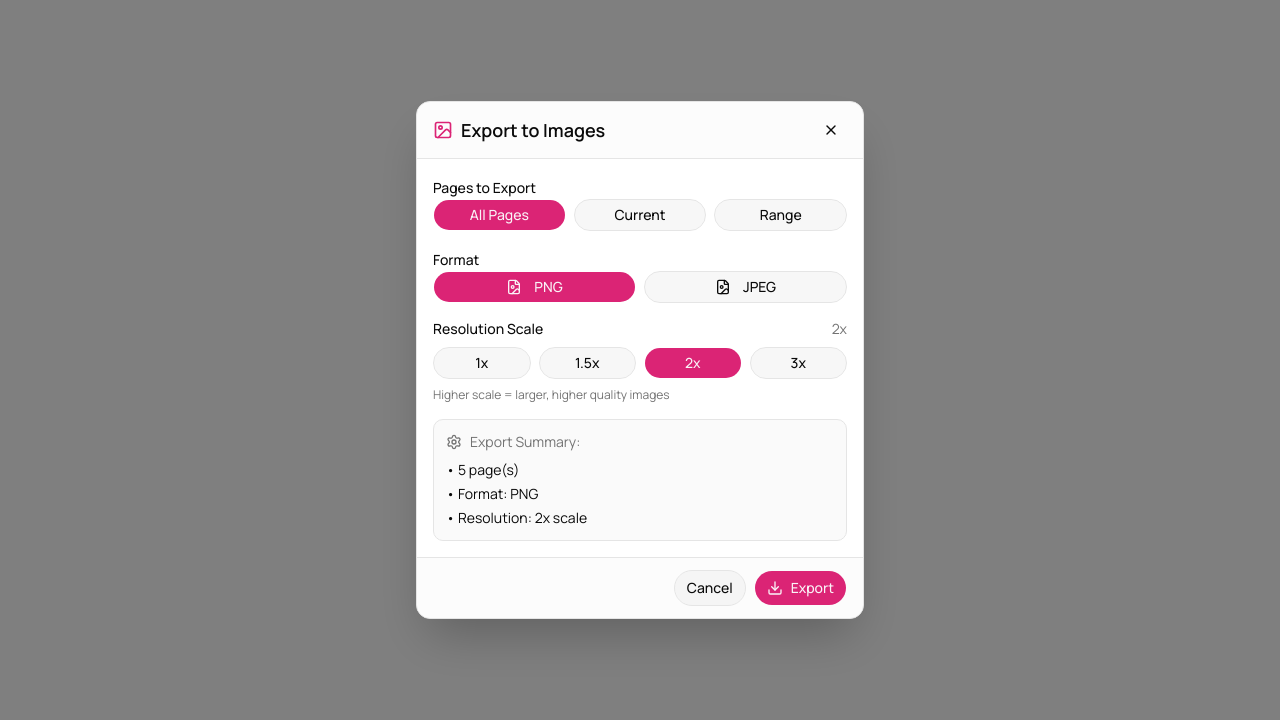
Test: ExportToImagesModal › should switch to range mode and show page inputs
Click the button "Range": [781, 215] box [714,199,847,231]
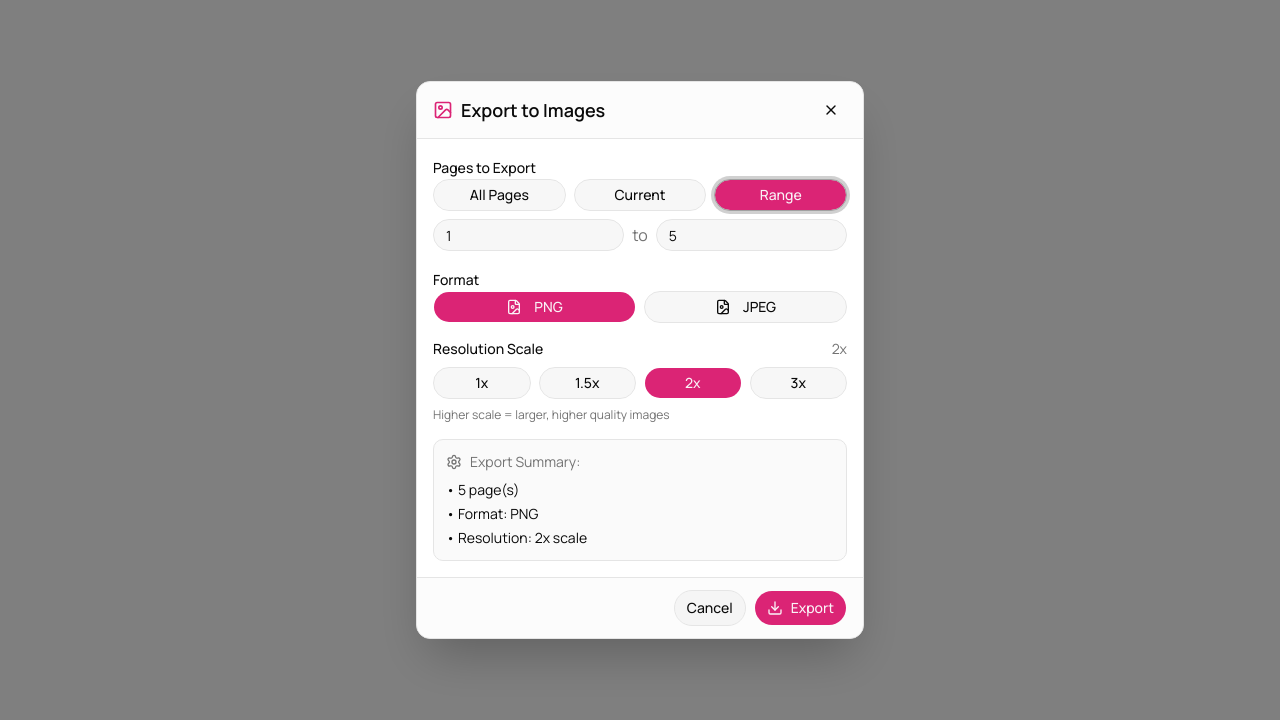
Expected: the number of number fields is 2, [433,219,624,251]; [656,219,847,251]
